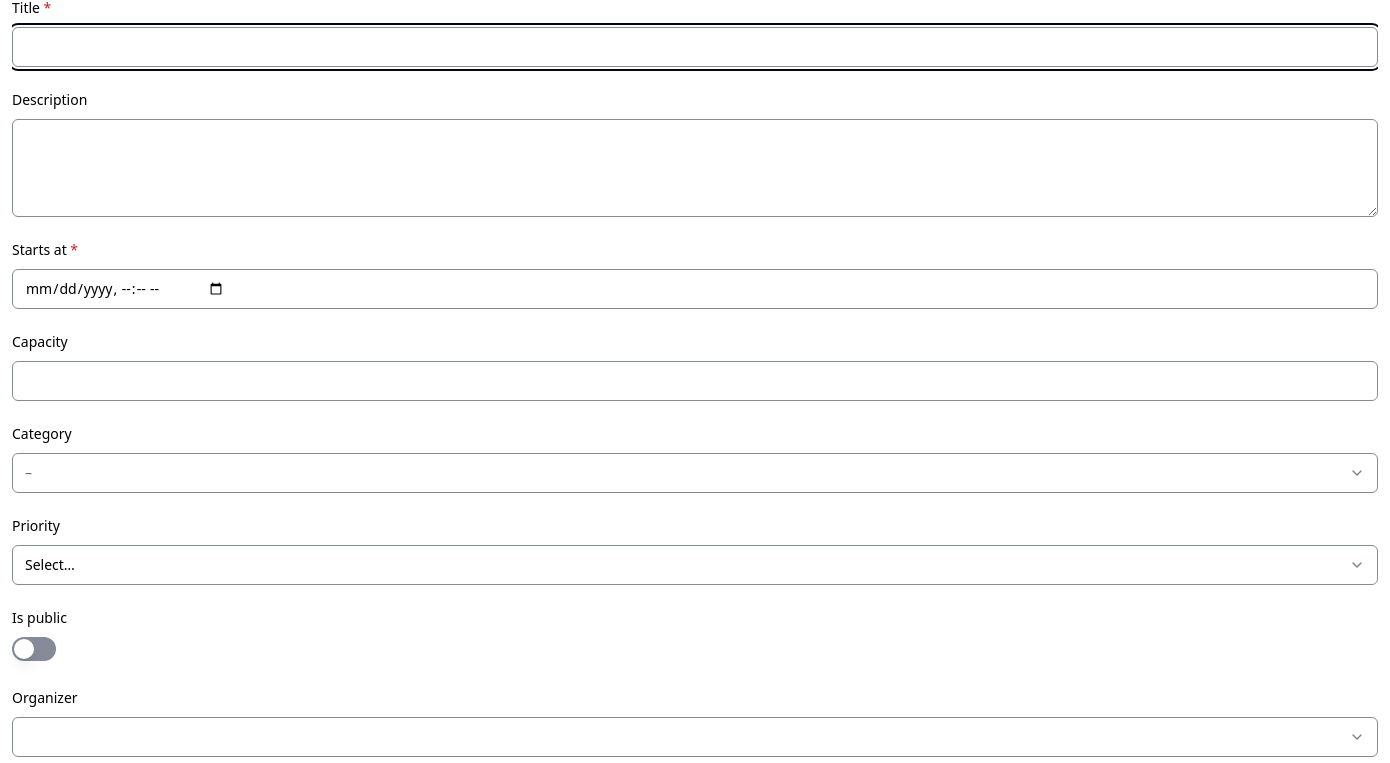
Test: ResourceForm submit: every DRF error shape lands on its field › a 400 with only `detail` (or a bare list) is a form-level message
This screenshot has width=1390, height=763.
Type "Spring gala" into the field labelled "Title" at (695, 47), box [12, 27, 1378, 67]
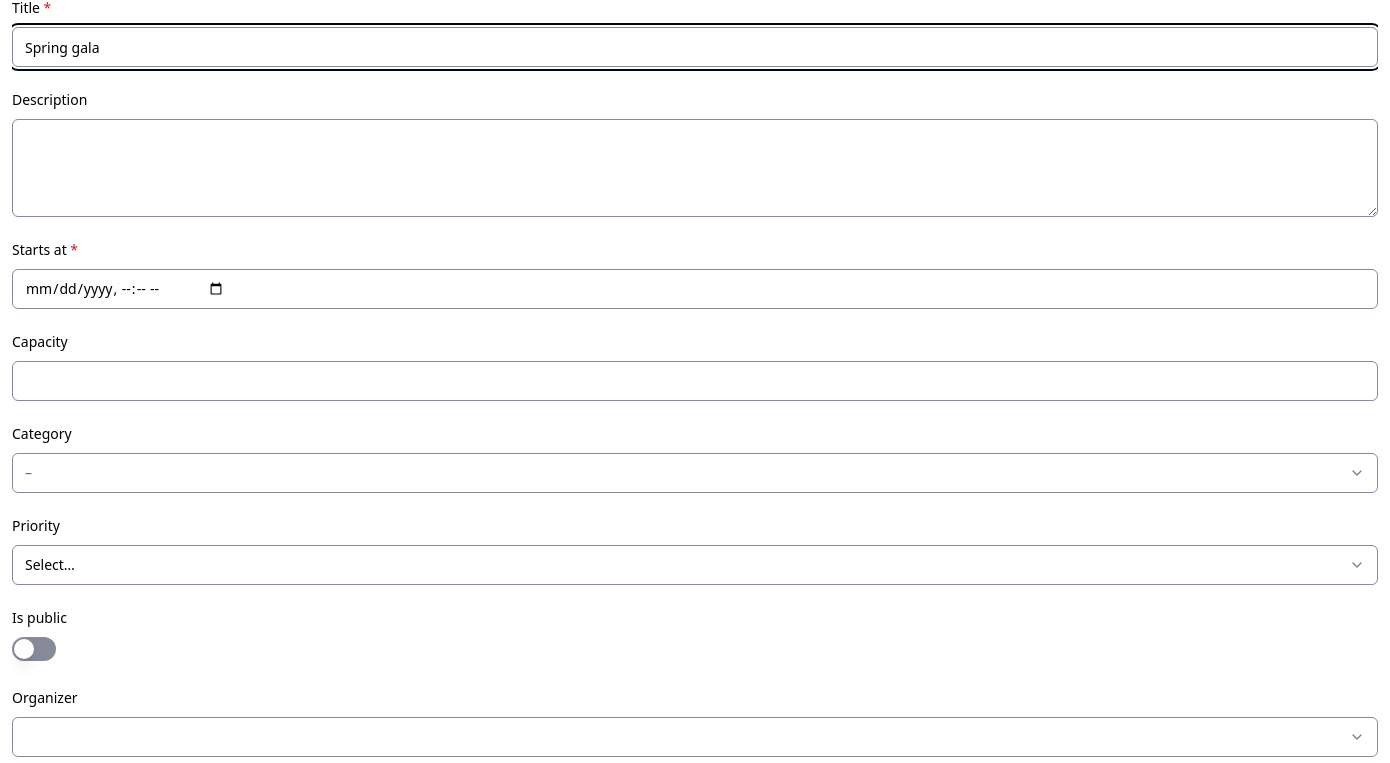
Type "2026-05-01T18:30" into the field labelled "Starts at *" at (695, 289), box [12, 269, 1378, 309]
(page scrolled)
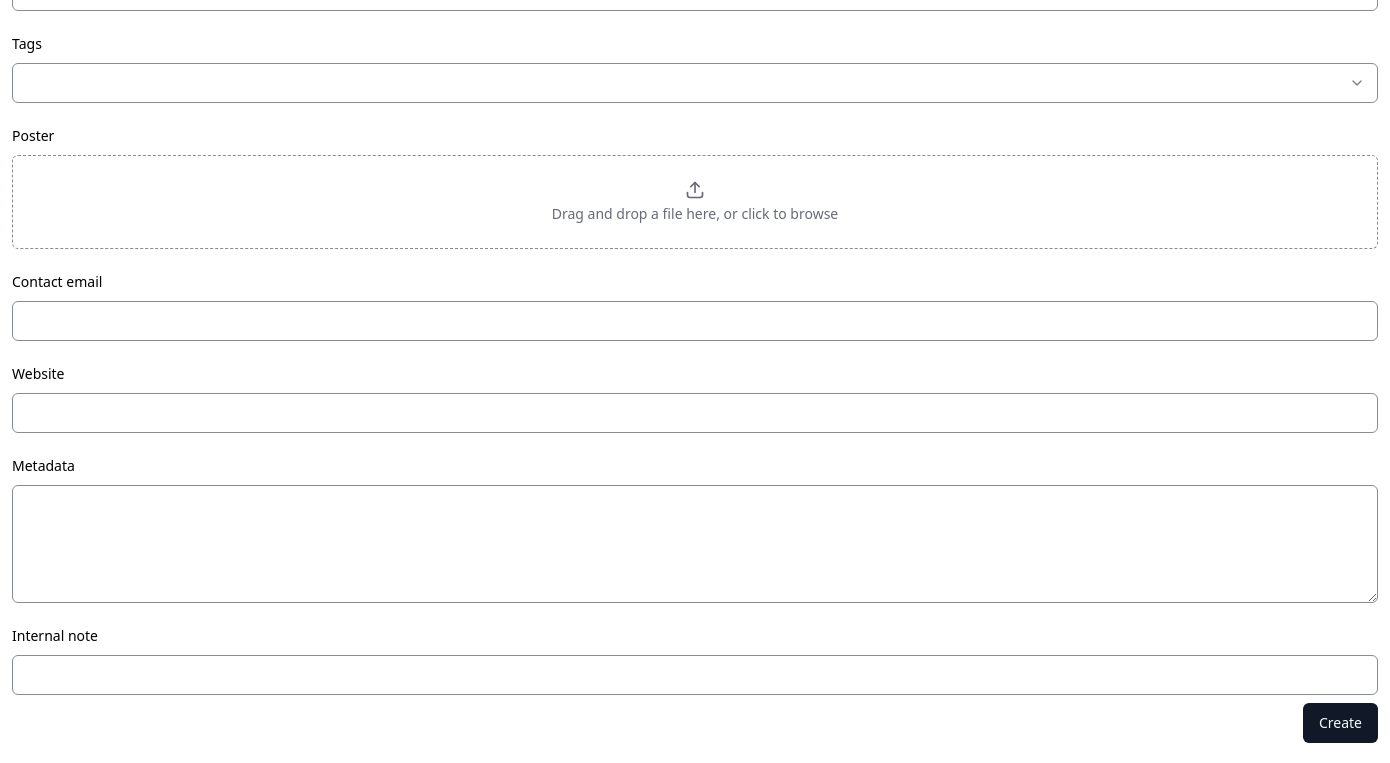
Click the button "Create" at (1340, 723), box [1303, 703, 1378, 743]
(page scrolled)
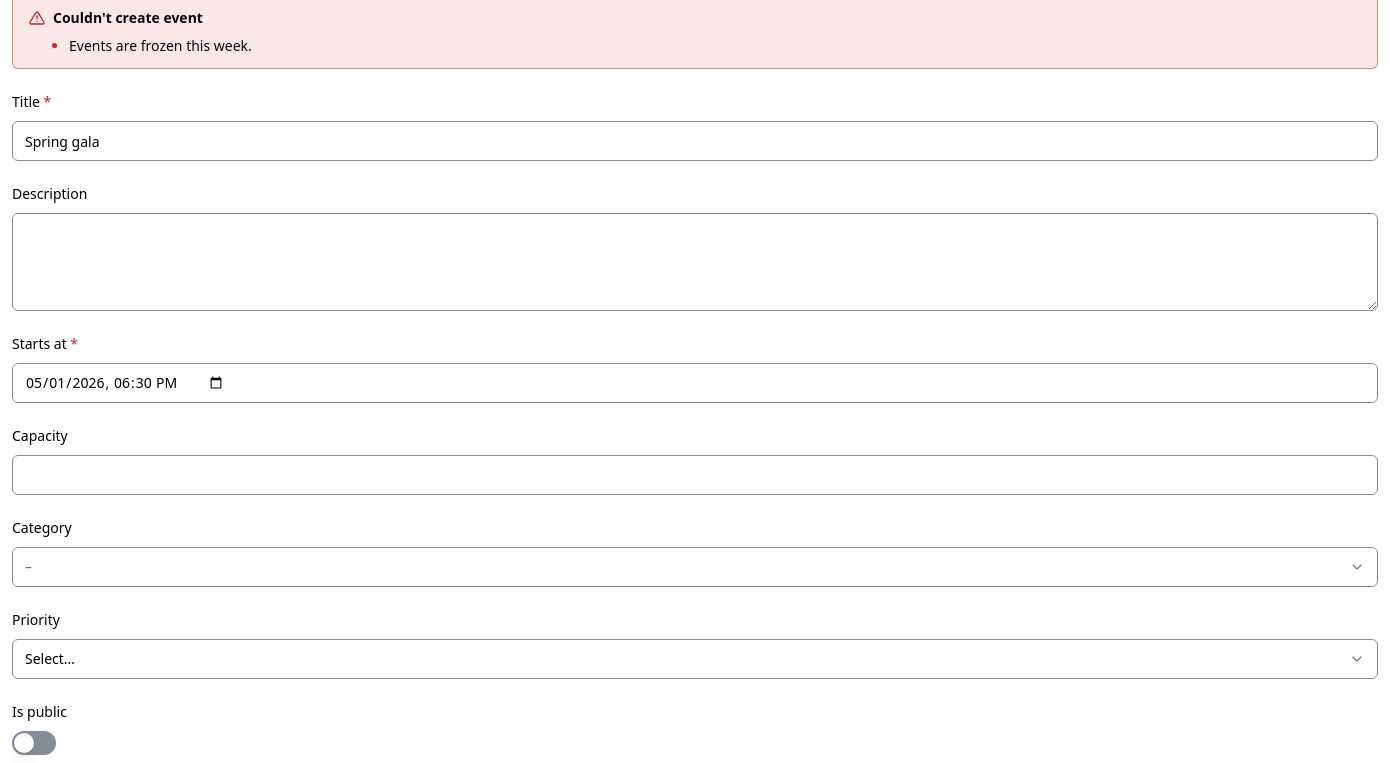
Result: the message shows "Couldn't create event" at [53, 8, 203, 27]
Result: the message shows "Events are frozen this week." at [69, 36, 252, 55]
